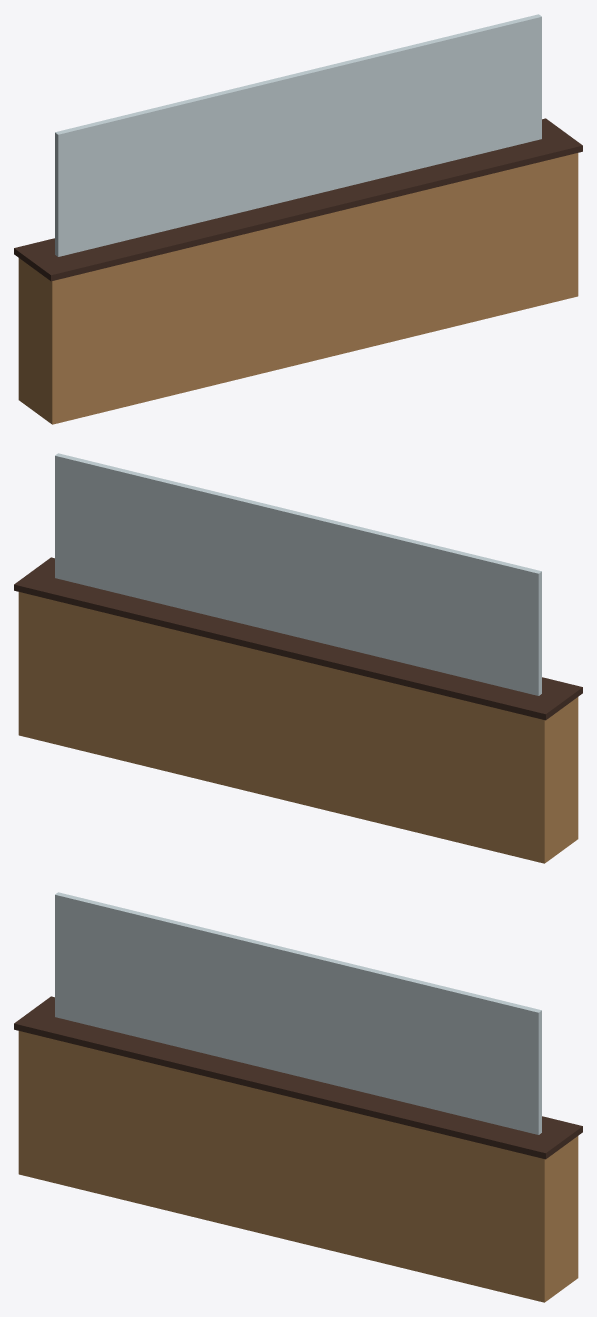
3 renders of one model, top to bottom at view 1: azimuth 30°, elevation 25°; view 2: azimuth 150°, elevation 25°; view 3: azimuth 330°, elevation 25°, orthographic.
Visible parts, largest first — view 1: isla_scen; view 2: isla_scen; view 3: isla_scen.
Part boxes in pixels (box(x1,y1,x2,y2)): isla_scen: box(14, 14, 582, 424); isla_scen: box(14, 453, 582, 863); isla_scen: box(14, 892, 582, 1302).
Size of the model in its own units: 3.64 by 0.44 by 1.79.
